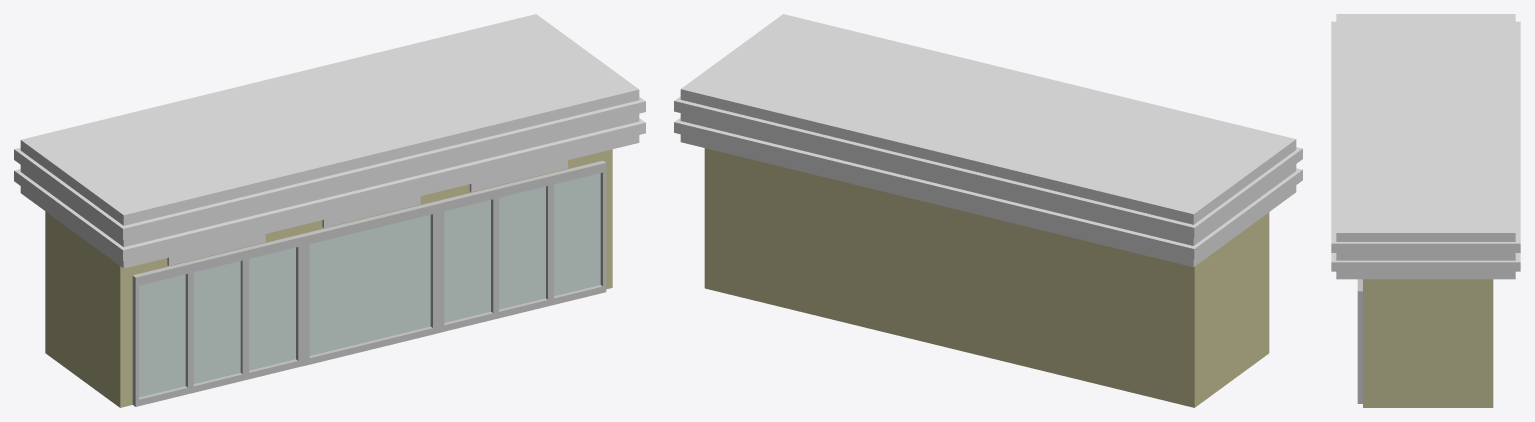
File: supermarket_1obj.fbx
3 renders of one model, left to right at view 1: azimuth 30°, elevation 25°; view 2: azimuth 150°, elevation 25°; view 3: azimuth 270°, elevation 25°, orthographic. The views are drawn at different scales.
Parts seen in each view (by area): view 1: Supermarket; view 2: Supermarket; view 3: Supermarket.
Part boxes in pixels (x1,y1,x2,y2): Supermarket: (14,14,645,407); Supermarket: (674,14,1302,407); Supermarket: (1331,14,1520,407).
Size of the model in its own units: 846 by 320 by 305.
